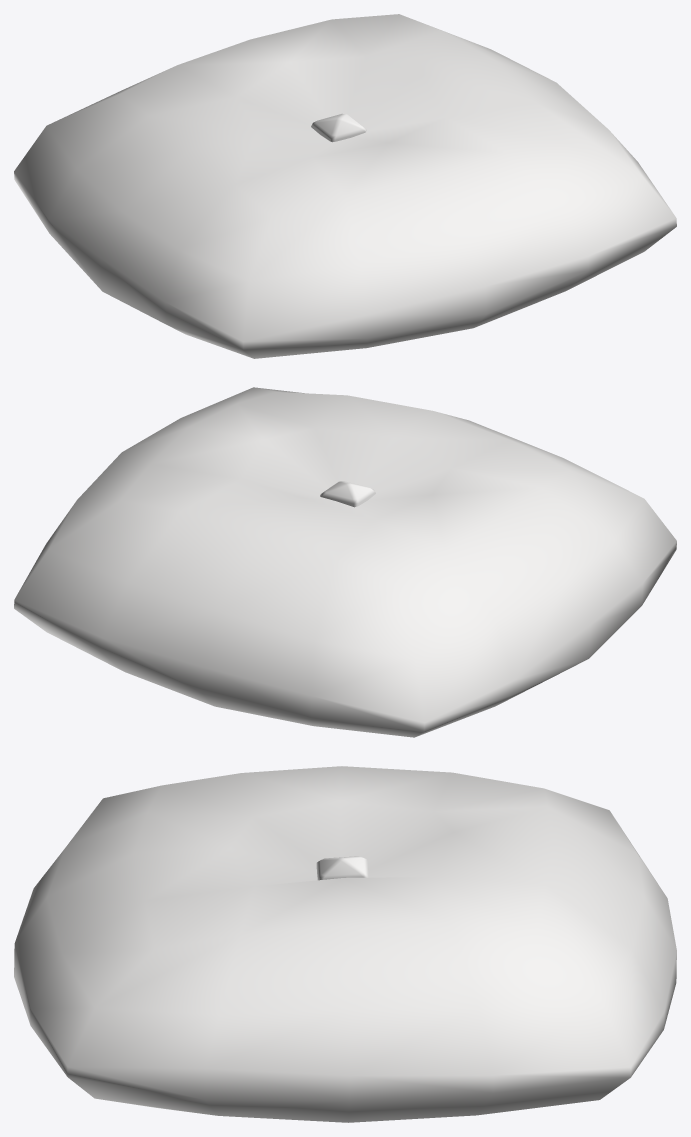
File: P_DecorPillowA.glb
The picture shows the model from 3 angles, top to bottom: view 1: azimuth 30°, elevation 25°; view 2: azimuth 150°, elevation 25°; view 3: azimuth 270°, elevation 25°; orthographic projection. The views are drawn at different scales.
Parts seen in each view (by area): view 1: P_DecorPillowA; view 2: P_DecorPillowA; view 3: P_DecorPillowA.
Boxes of the visible parts, box(x1,y1,x2,y2) form: P_DecorPillowA: box(14, 14, 676, 358); P_DecorPillowA: box(14, 387, 676, 737); P_DecorPillowA: box(14, 766, 676, 1122).
Size of the model in its own units: 0.5089 by 0.1683 by 0.5097.
Materials: 1 (1 with a texture image).
